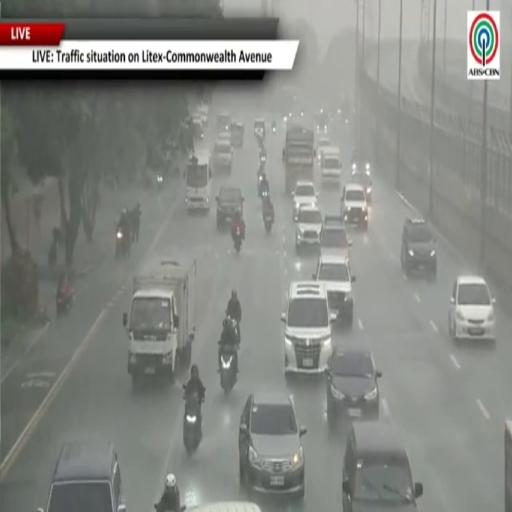bus: (505, 421, 511, 511)
car: (239, 391, 306, 499), (342, 422, 423, 511), (38, 441, 125, 511), (282, 281, 336, 375), (326, 347, 381, 426), (313, 254, 355, 326), (449, 276, 495, 341), (401, 218, 437, 276), (321, 216, 352, 260), (342, 184, 368, 230), (295, 206, 322, 250), (216, 186, 244, 228), (351, 151, 372, 203), (292, 181, 318, 221), (351, 165, 372, 203), (211, 139, 233, 173), (320, 147, 341, 180), (186, 502, 261, 511), (352, 150, 371, 173), (316, 134, 331, 161), (315, 108, 331, 133), (231, 122, 244, 148), (192, 115, 204, 140), (217, 112, 231, 133), (254, 119, 265, 138), (218, 132, 232, 142)
motorcycle: (183, 393, 202, 456), (219, 342, 238, 394), (56, 285, 74, 316), (116, 227, 130, 258), (234, 227, 242, 252), (263, 212, 273, 232), (258, 172, 263, 197), (154, 504, 170, 511), (261, 189, 269, 202), (157, 174, 163, 190), (260, 152, 266, 164), (272, 124, 276, 134)
truck: (123, 261, 196, 387), (283, 123, 315, 194), (184, 152, 212, 210)
